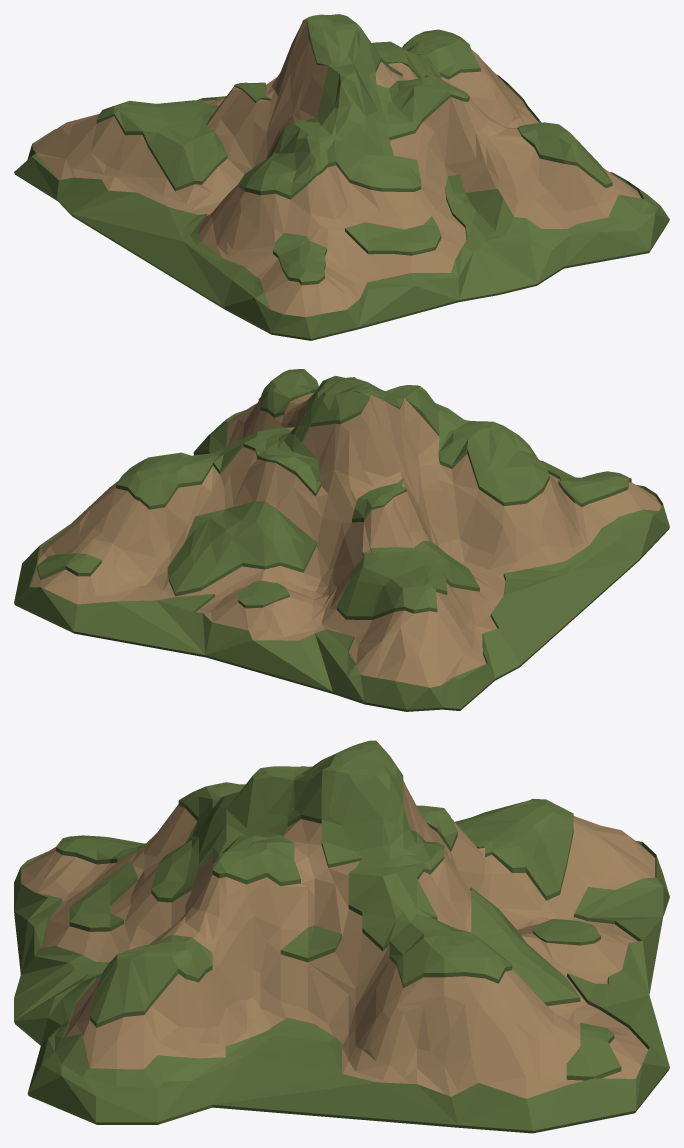
The model's file is Env_MountainGrass1.glb.
3 views of the same model, one above another, from view 1: azimuth 30°, elevation 25°; view 2: azimuth 150°, elevation 25°; view 3: azimuth 270°, elevation 25° (orthographic). The views are drawn at different scales.
Visible parts, largest first — view 1: SM_Env_MountainGrass_01; view 2: SM_Env_MountainGrass_01; view 3: SM_Env_MountainGrass_01.
Boxes of the visible parts, x1,y1,x2,y2 form: SM_Env_MountainGrass_01: [14, 14, 669, 340]; SM_Env_MountainGrass_01: [14, 369, 669, 711]; SM_Env_MountainGrass_01: [14, 740, 669, 1133].
Bounding box in the file's own units: 39.35 × 15.12 × 38.94.
1 material, 1 textured.
